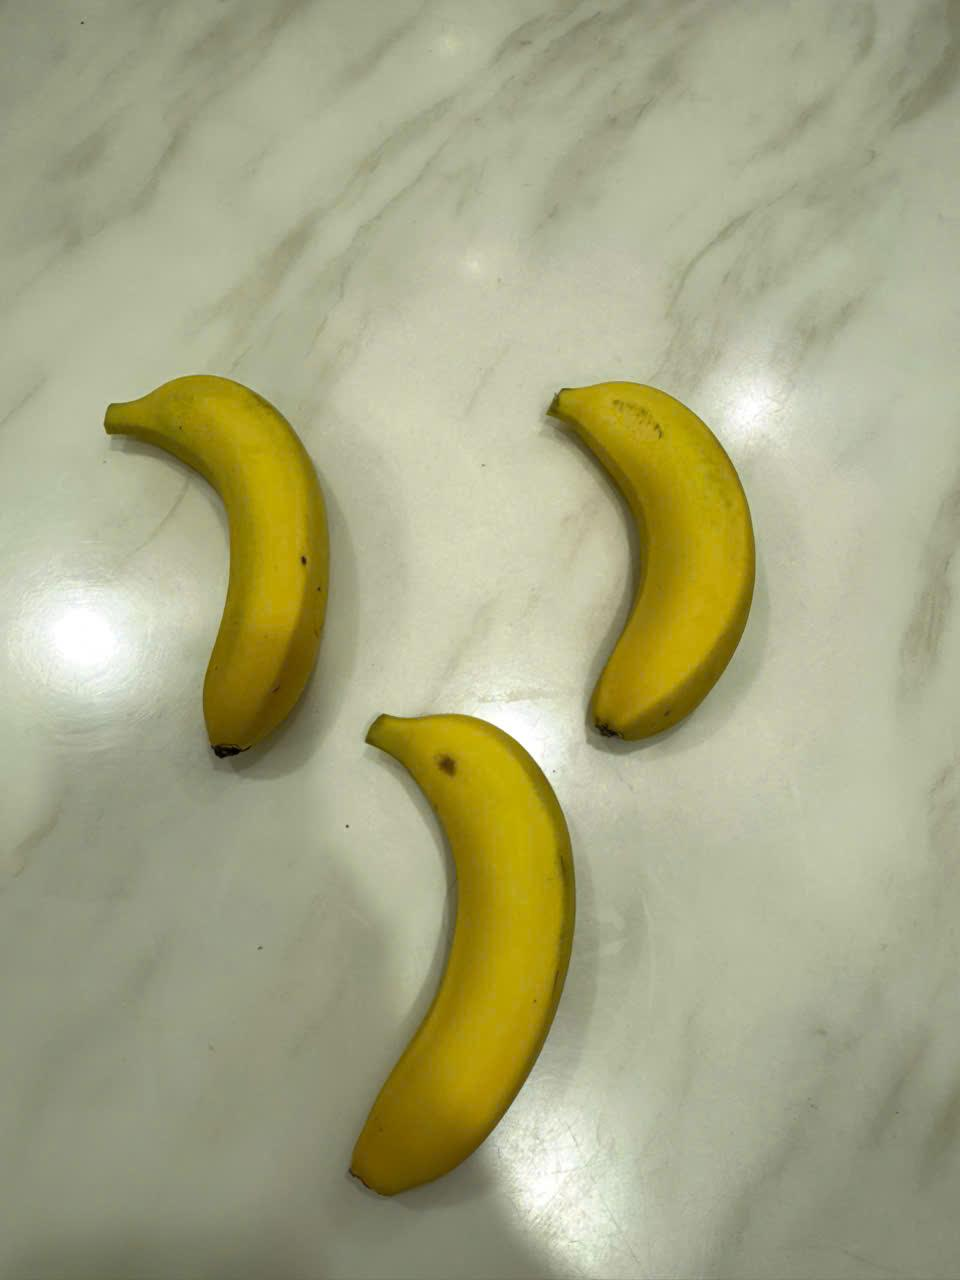banana: (332, 690, 593, 1234), (524, 370, 798, 759), (94, 360, 343, 785)
